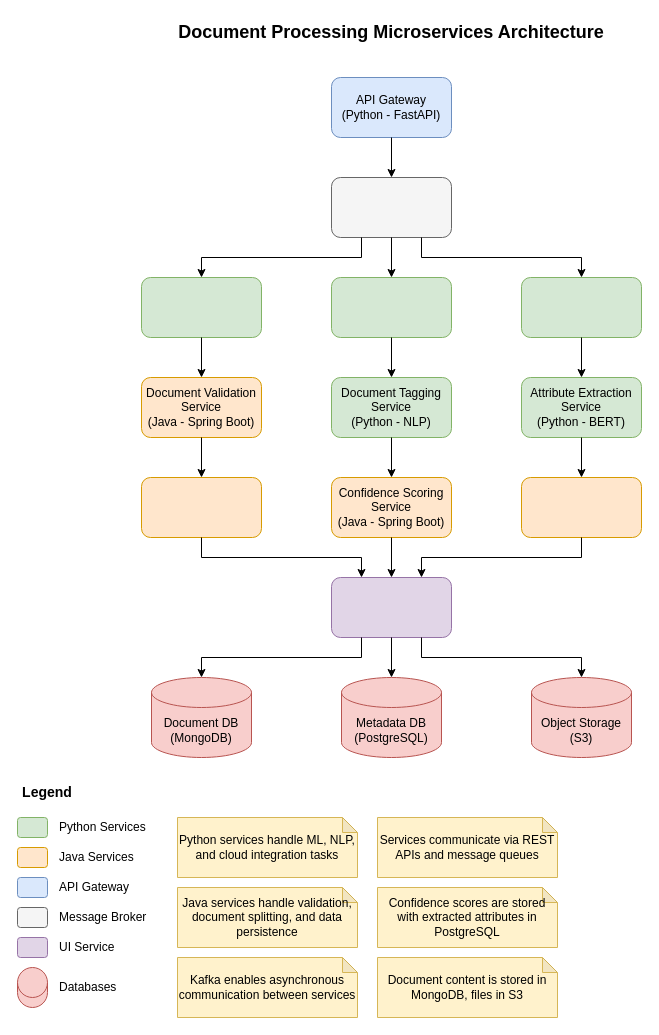
This 659x1035 diagram has some shape labels left out. The shapes that lost their labels are listed below. From the top down, each one's centre as x and y in pixels, then its label:
At (391,207): "Message Broker (Kafka)".
At (201,307): "Document Ingestion Service (Python)".
At (391,307): "Document Classification Service (Python - ML)".
At (581,307): "OCR Processing Service (Python - AWS Textract)".
At (201,507): "Document Splitting Service (Java - PDFBox)".
At (581,507): "Document Storage Service (Java - Spring Data)".
At (391,607): "UI Service (React + TypeScript)".
